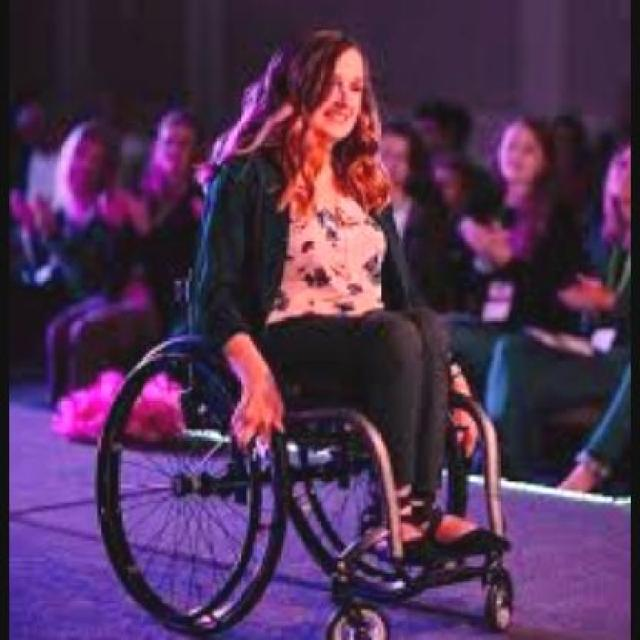wheelchairs: (90, 271, 513, 639)
